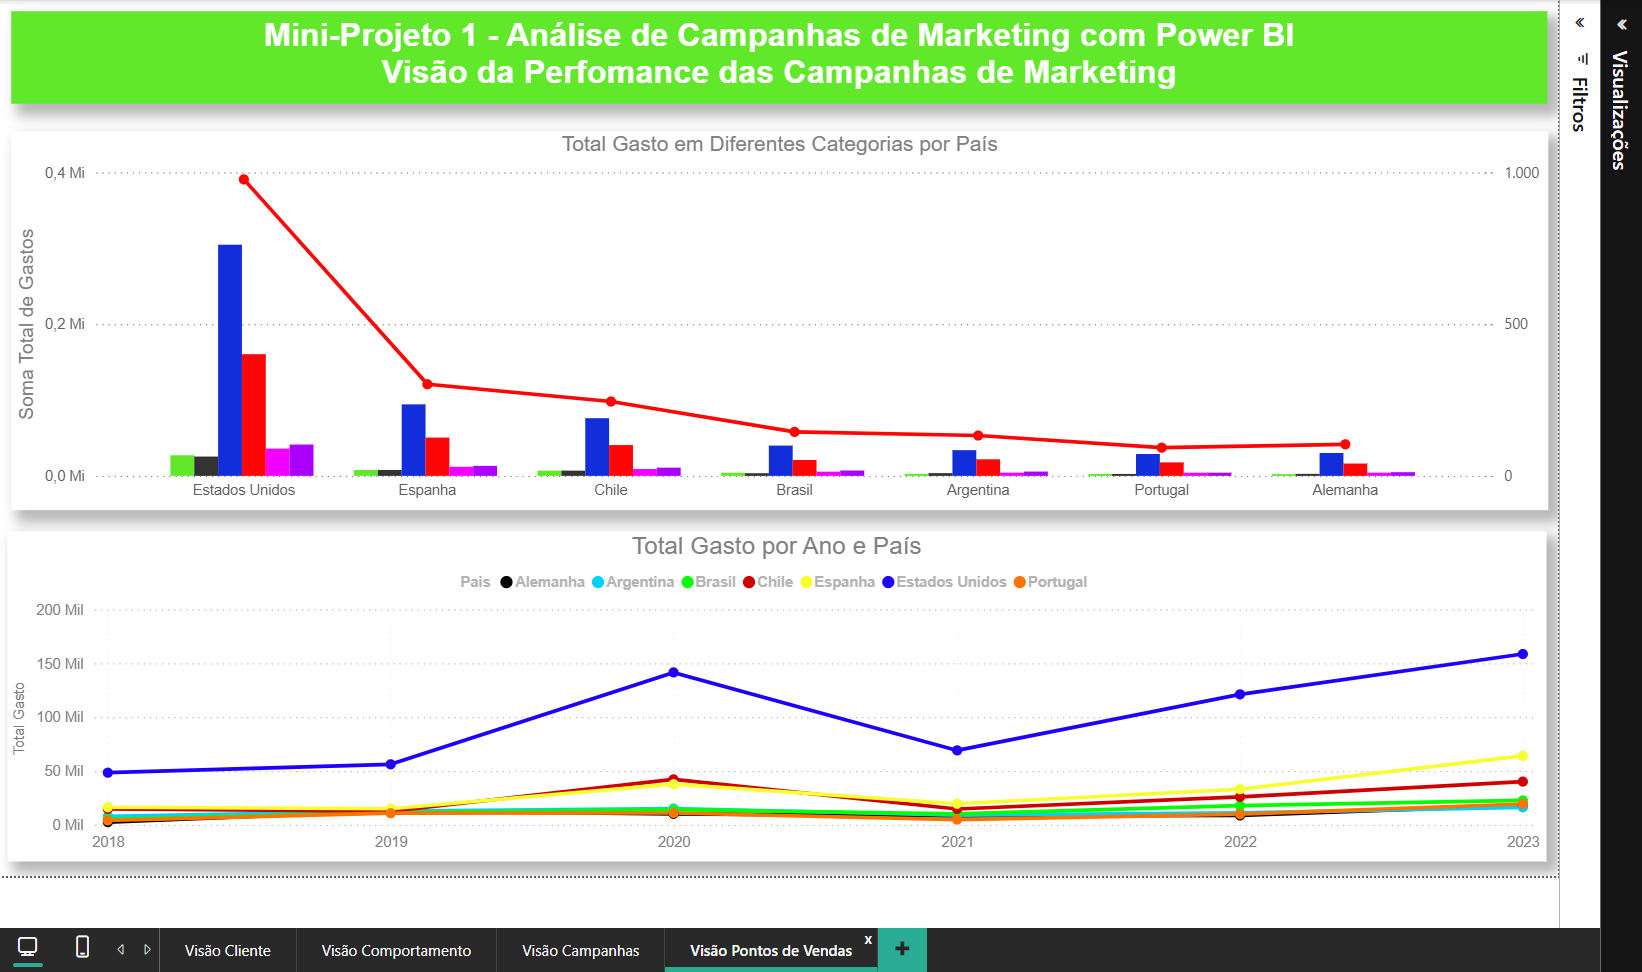

The dashboard page shown, as its layout file describes it:
{"tool":"powerbi","page":{"name":"Visão Pontos de Vendas","canvas":[1280,720],"ordinal":3},"visuals":[{"type":"textbox","box":[9.4,9.4,1261.5,76.1],"z":0},{"type":"lineClusteredColumnComboChart","title":"Total Gasto em Diferentes Categorias por País","fields":{"Category":["Dados_Marketing.Pais"],"Y2":["CountNonNull(Dados_Marketing.ID)"],"Y":["Sum(Dados_Marketing.Gasto com Alimentos)","Sum(Dados_Marketing.Gasto com Brinquedos)","Sum(Dados_Marketing.Gasto com Eletronicos)","Sum(Dados_Marketing.Gasto com Moveis)","Sum(Dados_Marketing.Gasto com Utilidades)","Sum(Dados_Marketing.Gasto com Vestuario)"]},"box":[8.8,107.5,1262.5,311.2],"z":1},{"type":"lineChart","title":"Total Gasto por Ano e País","fields":{"Y":["Dados_Marketing.TotalGasto"],"Series":["Dados_Marketing.Pais"],"Category":["Dados_Marketing.Data Cadastro.Variation.Hierarquia de datas.Ano"]},"box":[6.2,436.2,1263.8,271.2],"z":2}]}

Visuals, with their boxes on the page's 1280x720 design canvas (x1, y1, x2, y2). These are canvas units, not pixel positions in the 1642x972 screenshot, which may show the page scaled, cropped or inside an application window:
textbox: x1=9 y1=9 x2=1271 y2=86
"Total Gasto em Diferentes Categorias por País" lineClusteredColumnComboChart: x1=9 y1=108 x2=1271 y2=419
"Total Gasto por Ano e País" lineChart: x1=6 y1=436 x2=1270 y2=707
